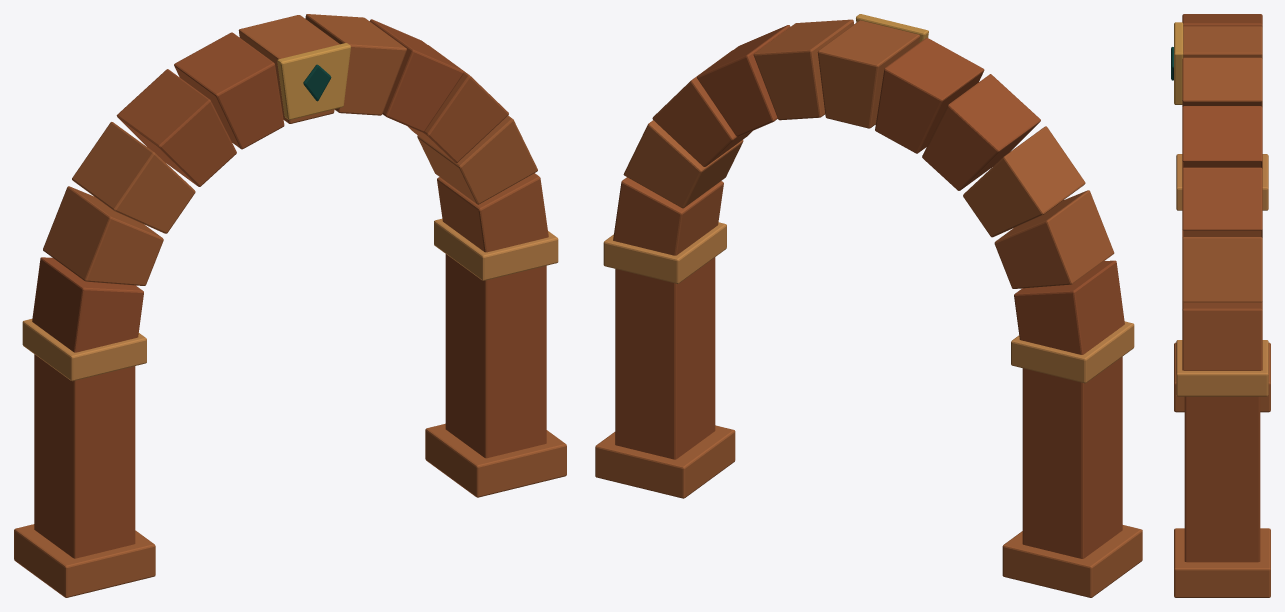
Rendered from ColonyGateFrame.fbx.
3 views of the same model, side by side, from view 1: azimuth 30°, elevation 25°; view 2: azimuth 150°, elevation 25°; view 3: azimuth 270°, elevation 25° (orthographic). The views are drawn at different scales.
Parts seen in each view (by area): view 1: ColonyGateFrame; view 2: ColonyGateFrame; view 3: ColonyGateFrame.
Part boxes in pixels (<box>): ColonyGateFrame: <box>14,14,566,597</box>; ColonyGateFrame: <box>595,14,1142,597</box>; ColonyGateFrame: <box>1171,14,1270,597</box>.
Size of the model in its own units: 4.54 by 4.18 by 0.845.
